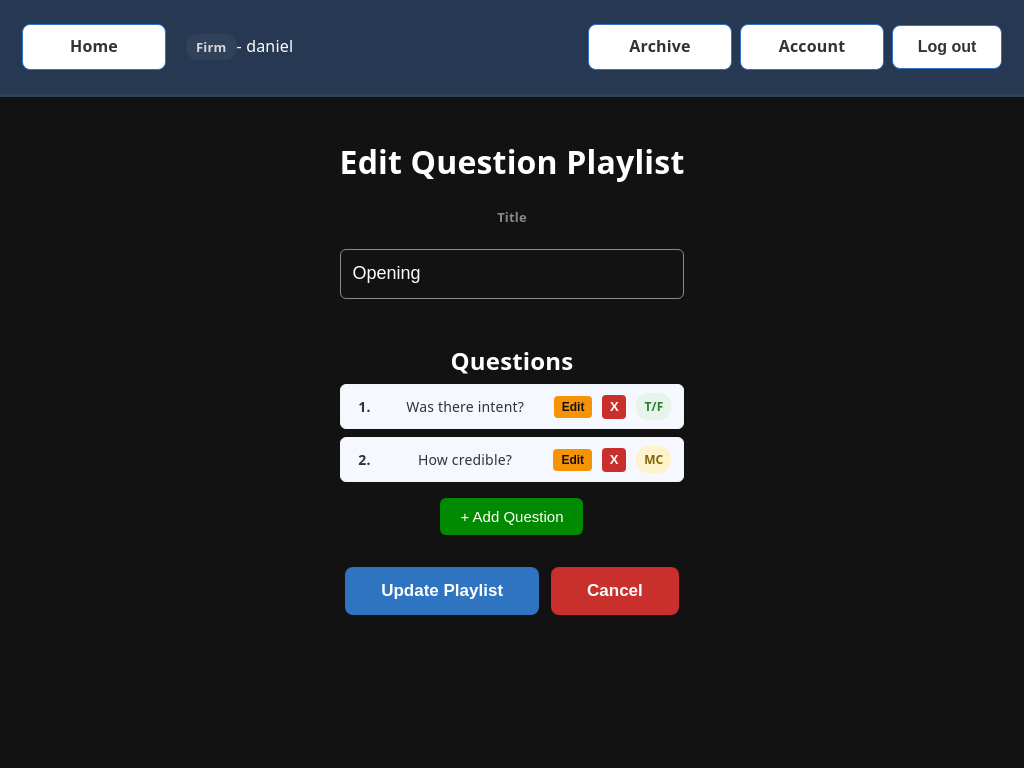
Test: EditPlaylistScreen saving (spec 022) › refuses an empty title without a request
Expected: the heading "Edit Question Playlist" is shown, [340,150,684,174]
Step 1. Clear the field labelled "Title" → (512, 274), box [340,249,684,299]
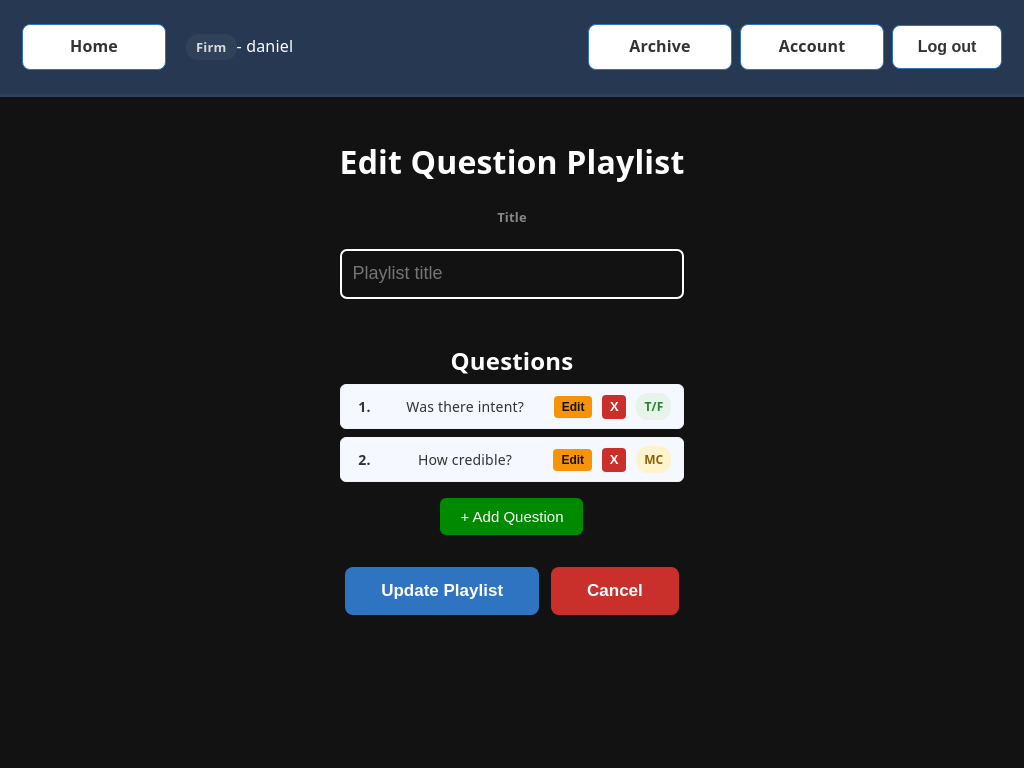
Step 2. Click the button "Update Playlist" → click(442, 592), box [345,568,539,616]
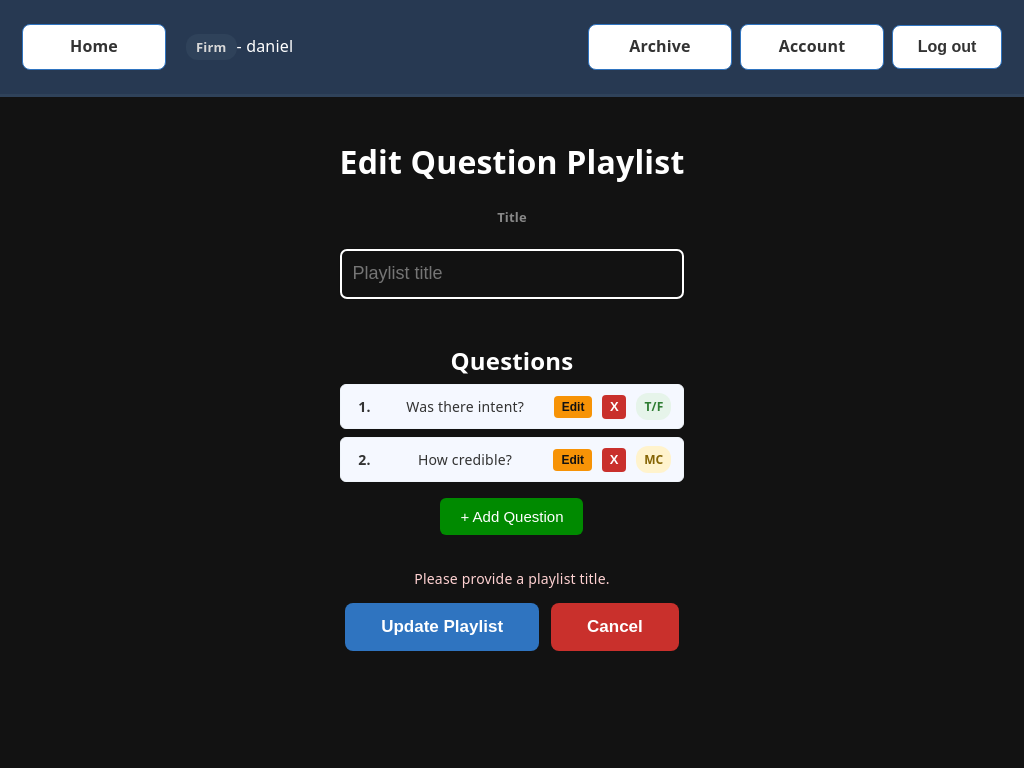
Expected: the message reads "Please provide a playlist title.", [414,570,610,588]
